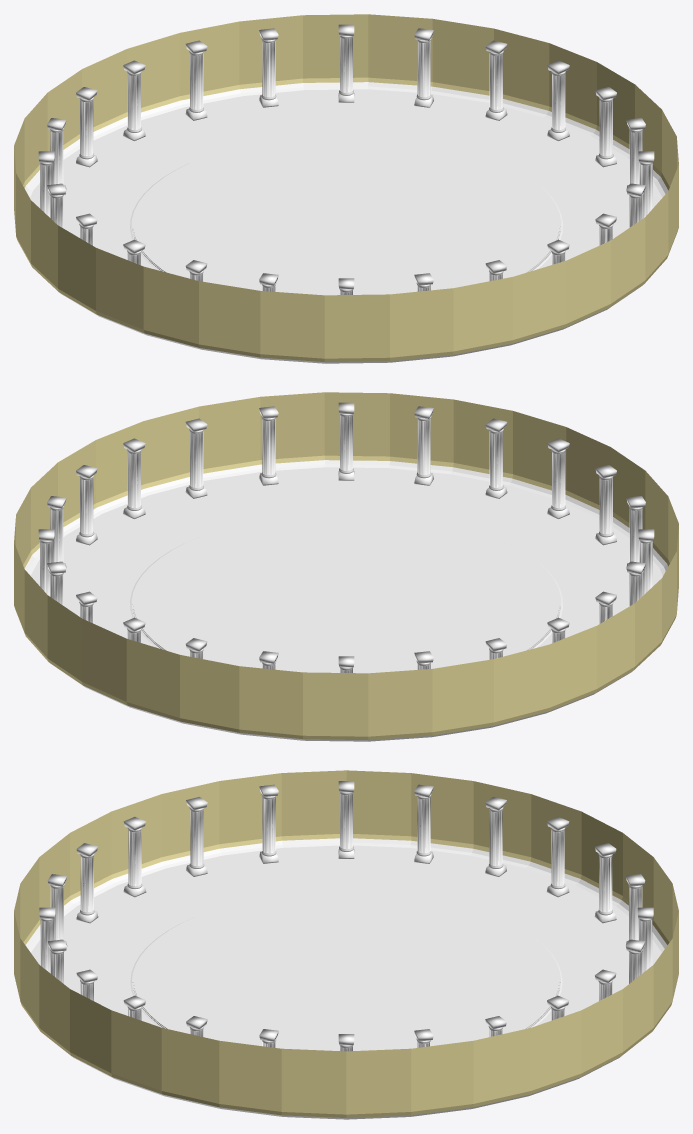
File: world_bossroom.gltf
3 renders of one model, top to bottom at view 1: azimuth 30°, elevation 25°; view 2: azimuth 150°, elevation 25°; view 3: azimuth 270°, elevation 25°, orthographic.
Visible parts, largest first — view 1: BossRoom, InnerFloor, Pillar.001; view 2: BossRoom, InnerFloor, Pillar.001; view 3: BossRoom, InnerFloor, Pillar.001.
Boxes of the visible parts, x1,y1,x2,y2 form: BossRoom: (14, 14, 678, 363); InnerFloor: (130, 134, 562, 295); Pillar.001: (38, 24, 654, 294); BossRoom: (14, 392, 678, 741); InnerFloor: (130, 512, 562, 673); Pillar.001: (38, 402, 654, 672); BossRoom: (14, 770, 678, 1119); InnerFloor: (130, 890, 562, 1050); Pillar.001: (39, 781, 653, 1051).
Size of the model in its own units: 20 by 2.41 by 20.
